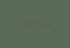five: (17, 19, 21, 27)
four: (47, 20, 51, 28)
one: (22, 19, 26, 27), (37, 20, 41, 28), (42, 20, 46, 28)
two: (27, 19, 31, 27)
zero: (32, 19, 36, 28)
